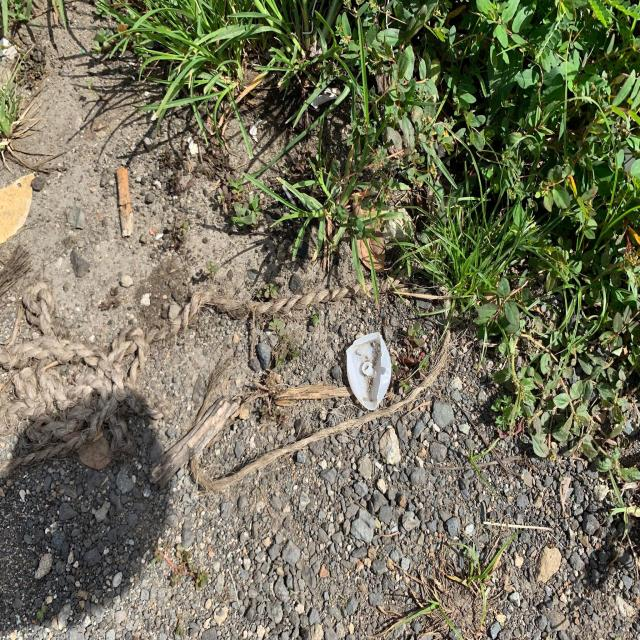litter: (1, 261, 454, 499), (342, 327, 399, 419), (111, 159, 138, 248)
